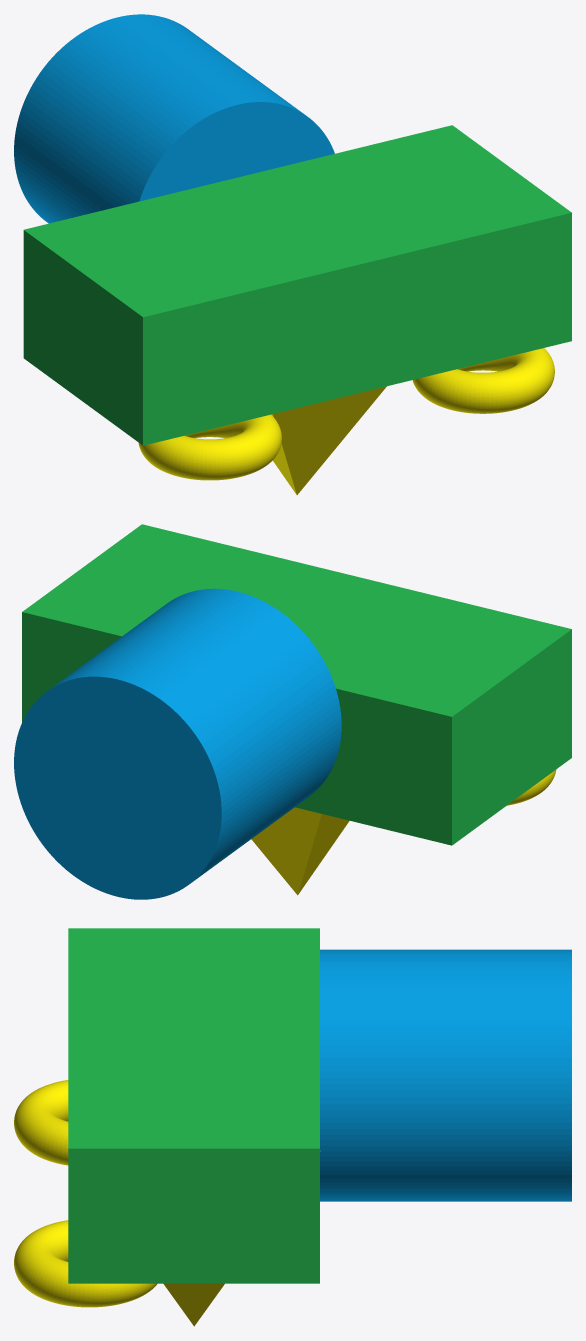
The model's file is trippy.obj.
The picture shows the model from 3 angles, top to bottom: view 1: azimuth 30°, elevation 25°; view 2: azimuth 150°, elevation 25°; view 3: azimuth 270°, elevation 25°; orthographic projection. The views are drawn at different scales.
Visible parts, largest first — view 1: Object.2, Object.1, Object.4, Object.5, Object.3; view 2: Object.2, Object.1, Object.3; view 3: Object.2, Object.1, Object.5, Object.4, Object.3.
Part boxes in pixels (<box>): Object.2: <box>23,125,571,445</box>; Object.1: <box>14,14,334,223</box>; Object.4: <box>138,414,281,480</box>; Object.5: <box>412,348,554,413</box>; Object.3: <box>271,386,386,494</box>; Object.2: <box>22,524,571,845</box>; Object.1: <box>14,588,341,899</box>; Object.3: <box>251,807,349,895</box>; Object.2: <box>68,928,319,1283</box>; Object.1: <box>320,949,571,1201</box>; Object.5: <box>14,1220,157,1307</box>; Object.4: <box>14,1080,68,1165</box>; Object.3: <box>163,1151,320,1326</box>.
Size of the model in its own units: 82.79 by 63.99 by 88.63.
